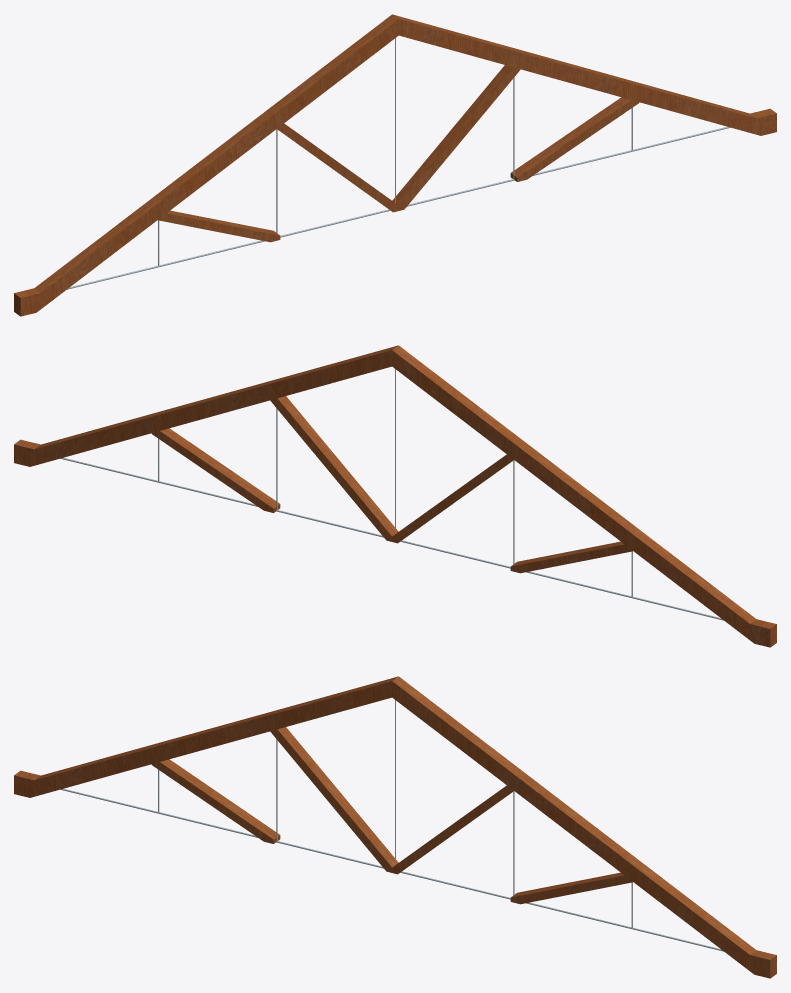
Rendered from steel-timber.glb.
The picture shows the model from 3 angles, top to bottom: view 1: azimuth 30°, elevation 25°; view 2: azimuth 150°, elevation 25°; view 3: azimuth 330°, elevation 25°; orthographic projection.
Visible parts, largest first — view 1: 钢木屋架; view 2: 钢木屋架; view 3: 钢木屋架.
Part boxes in pixels (x1,y1,x2,y2): 钢木屋架: [14, 14, 776, 316]; 钢木屋架: [14, 345, 776, 647]; 钢木屋架: [14, 676, 776, 978].
Bounding box in the file's own units: 15.85 × 4.11 × 0.24.
2 materials, 1 textured.
